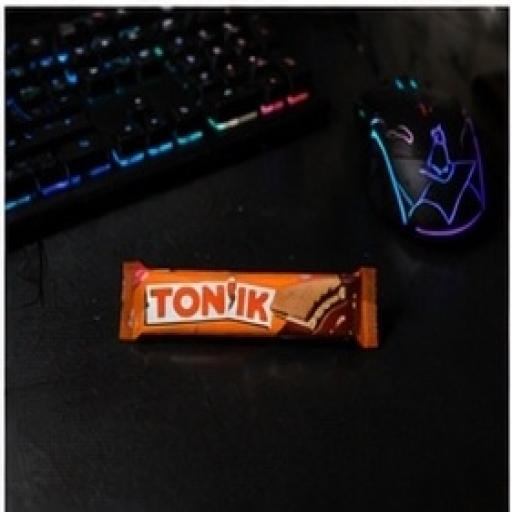tonik: (44, 171, 401, 407)
